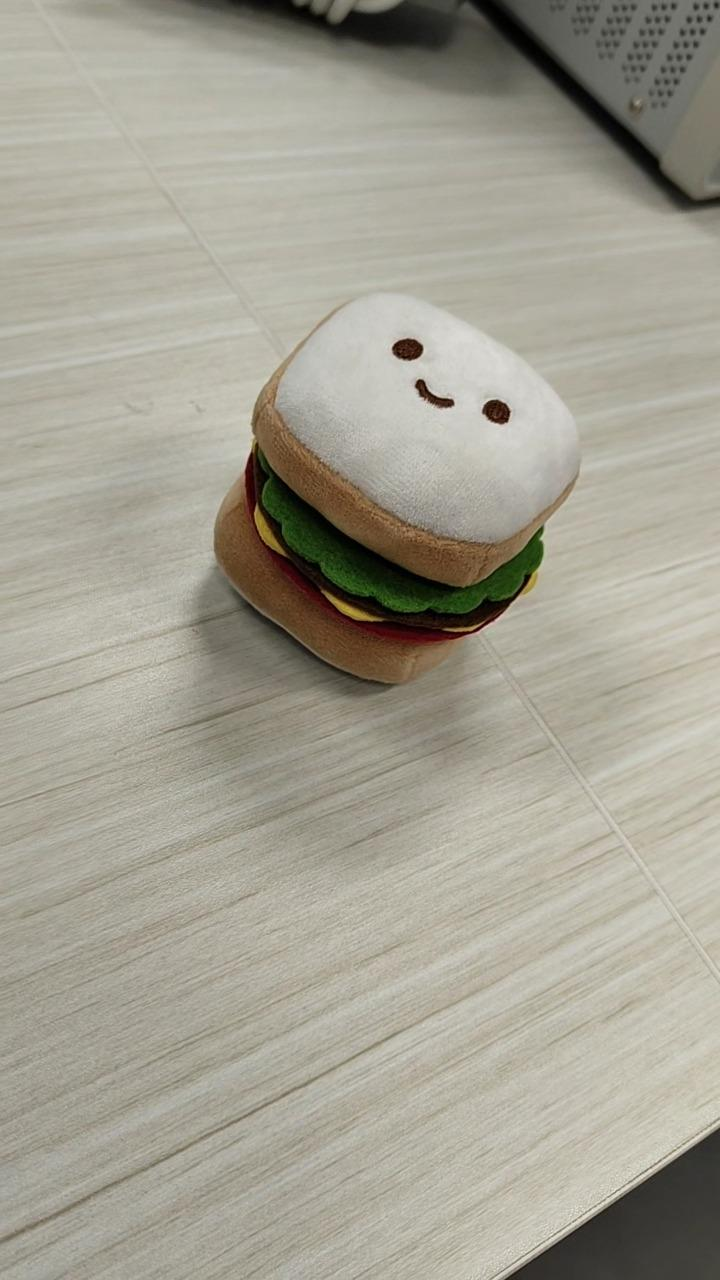objects: (212, 289, 581, 685)
